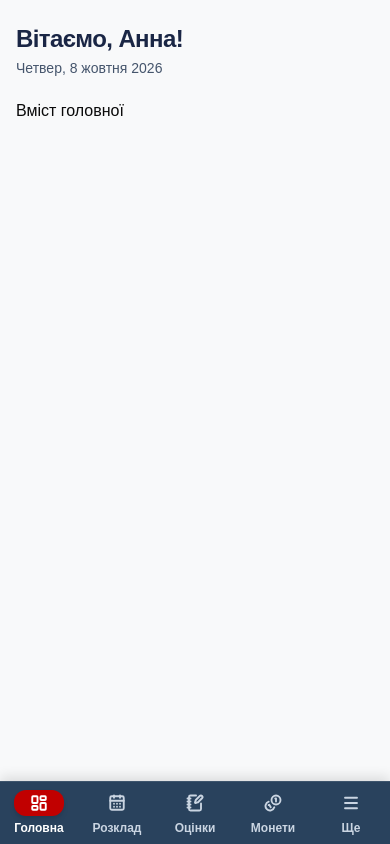
it: BottomNav › у меню «Ще» — розділи ролі, профіль і вихід
Click the button "Ще" at (351, 813), box 312,782 -> 389,843
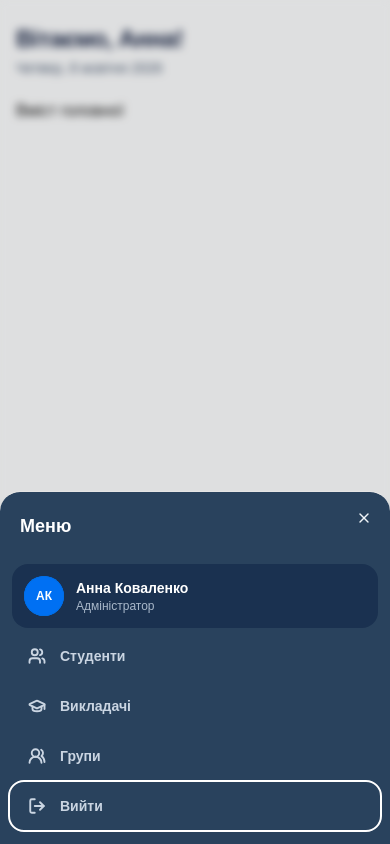
Check: the links read "АКАнна КоваленкоАдміністратор", "Студенти", "Викладачі", "Групи", in this order, box 12,564 -> 378,628; 28,647 -> 125,665; 28,697 -> 131,715; 28,747 -> 101,765
Check: the button "Вийти" is shown, box 12,784 -> 378,828
